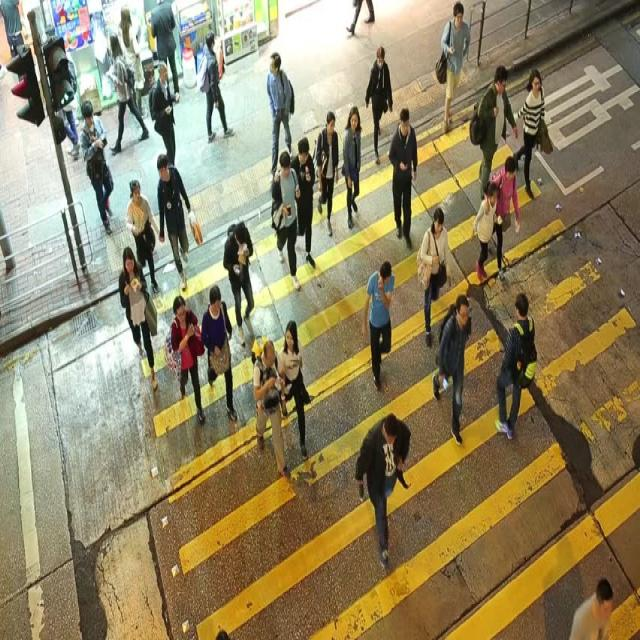body: (354, 411, 412, 568), (468, 63, 518, 204), (493, 289, 538, 440), (430, 292, 472, 447), (117, 244, 158, 391), (511, 67, 554, 200), (163, 294, 206, 426), (252, 339, 292, 480), (104, 31, 150, 153), (416, 204, 452, 347), (201, 283, 238, 421), (156, 152, 192, 291), (79, 97, 115, 235), (433, 0, 470, 133), (278, 319, 312, 460), (124, 178, 163, 294), (361, 258, 395, 391), (46, 34, 82, 158), (387, 105, 418, 248), (270, 149, 301, 291), (196, 28, 233, 143), (222, 219, 255, 345), (488, 155, 521, 281), (539, 548, 583, 640), (115, 4, 148, 120), (266, 51, 295, 176), (364, 44, 394, 164), (310, 108, 338, 236), (148, 60, 181, 167), (290, 136, 316, 269), (566, 574, 616, 638), (150, 0, 180, 104), (340, 104, 362, 229), (473, 180, 499, 284), (0, 0, 25, 61), (346, 0, 375, 36), (214, 625, 231, 640)
